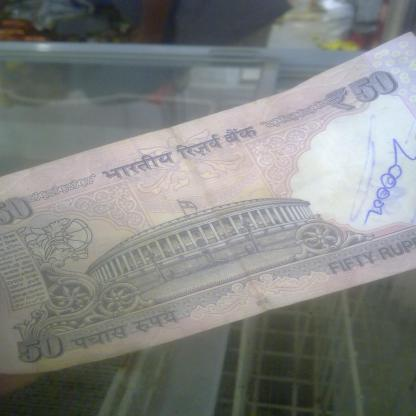Old50Back: (0, 33, 416, 374)
